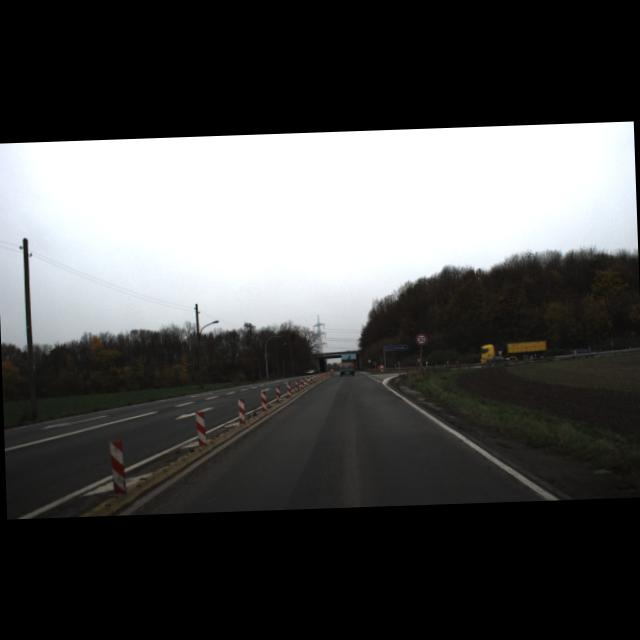prohibitory: (414, 333, 426, 344)
